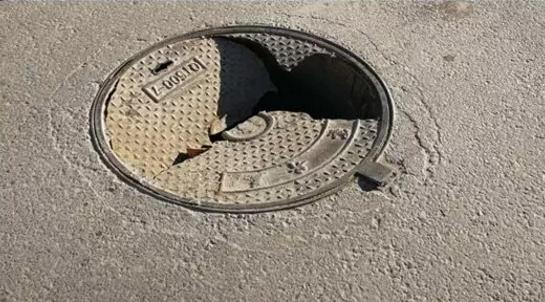wellcover: (86, 16, 407, 216)
